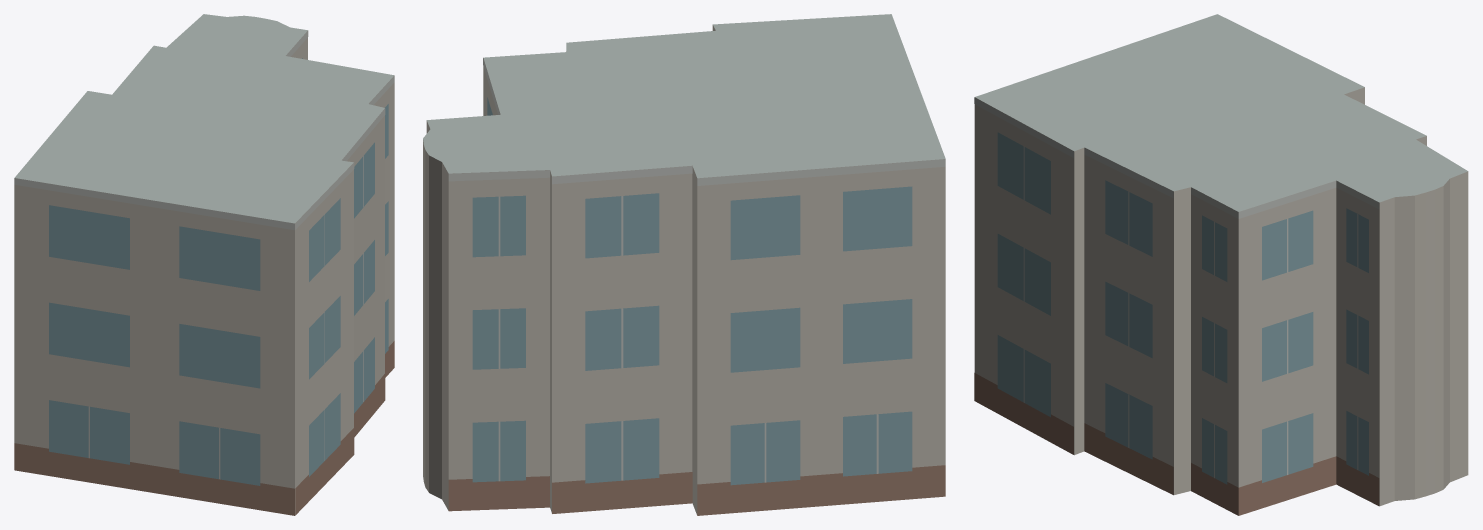
File: survey-upis-32959954.glb
3 renders of one model, left to right at view 1: azimuth 30°, elevation 25°; view 2: azimuth 150°, elevation 25°; view 3: azimuth 270°, elevation 25°, orthographic. The views are drawn at different scales.
Visible parts, largest first — view 1: survey-upis-32959954.tmp; view 2: survey-upis-32959954.tmp; view 3: survey-upis-32959954.tmp.
Part boxes in pixels (x1,y1,x2,y2): survey-upis-32959954.tmp: [14, 14, 394, 515]; survey-upis-32959954.tmp: [423, 14, 945, 515]; survey-upis-32959954.tmp: [974, 14, 1468, 515].
Size of the model in its own units: 14.75 by 10.55 by 15.54.
